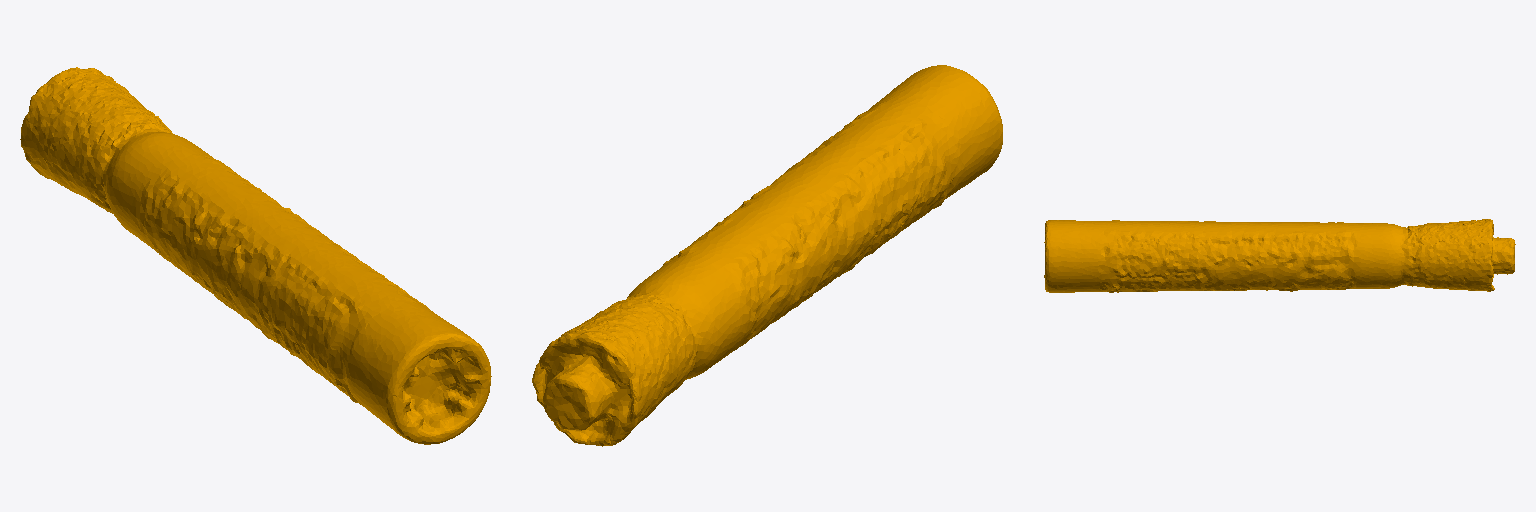
URDF robot description (model.urdf):
<?xml version="1.0" ?>
<robot name="model.urdf">
<link name="ycb">
<visual>
<origin rpy="0 0 0" xyz="0 0 0"/>
<geometry>
<mesh filename="meshes/textured_modified.obj" scale="1 1 1"/>
</geometry>
</visual>
<collision>
<origin rpy="0 0 0" xyz="0 0 0"/>
<geometry>
<mesh filename="meshes/textured_modified.obj" scale="1 1 1"/>
</geometry>
</collision>
<inertial>
<origin rpy="0 0 0" xyz="0 0 0"/>
       <mass value="0.016"/>
<inertia ixx="1" ixy="0" ixz="0" iyy="1" iyz="0" izz="1"/>
</inertial>
<contact>
<lateral_friction value="0.5"/>
<rolling_friction value="0.0"/>
<contact_cfm value="0.0"/>
<contact_erp value="1.0"/>
</contact>
</link>
</robot>

--- Render facts (derived) ---
The picture shows the robot from 3 angles, left to right: view 1: azimuth 30°, elevation 25°; view 2: azimuth 150°, elevation 25°; view 3: azimuth 270°, elevation 25°; orthographic projection.
Model model.urdf with 1 links and 0 joints (none), rooted at ycb, posed all joints at 0.
Visible links, largest first — view 1: ycb; view 2: ycb; view 3: ycb.
Link boxes in pixels (x1,y1,x2,y2): ycb: (20, 67, 491, 444); ycb: (532, 65, 1002, 446); ycb: (1044, 219, 1515, 292).
Bounding box of the posed robot: 0.0191 × 0.1208 × 0.0189 m (x, y, z).
1 mesh visuals loaded from 1 distinct referenced files (1 OBJ).